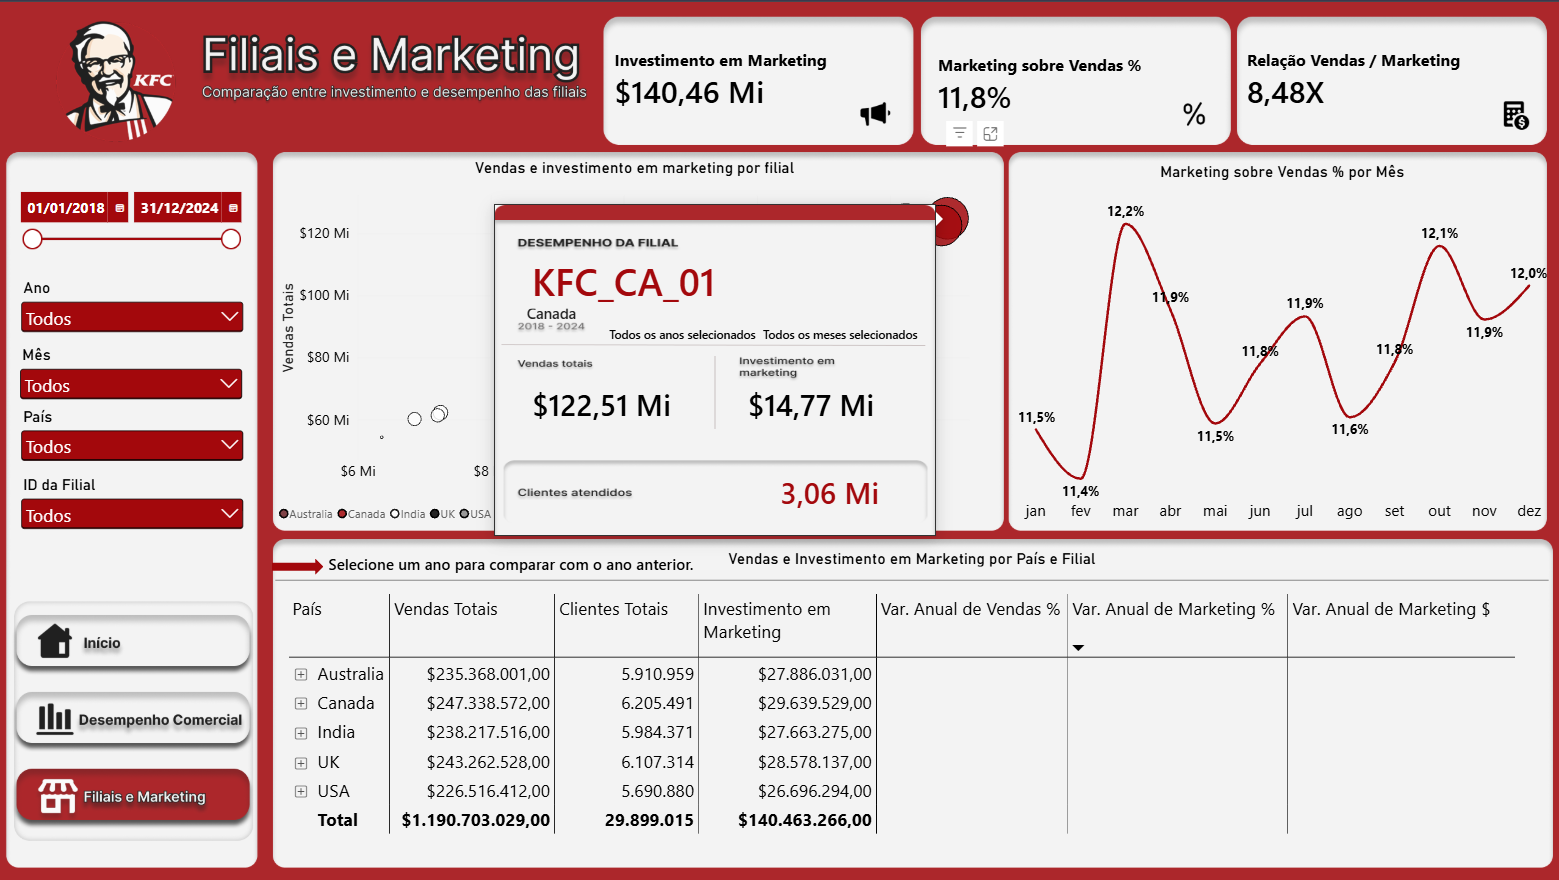

The page's visual inventory and layout, read from the dashboard file:
{"tool":"powerbi","page":{"name":"Filiais e Marketing","canvas":[1920,1080],"ordinal":2},"visuals":[{"type":"scatterChart","title":"Vendas e investimento em marketing por filial","fields":{"Category":["Conjunto de dados de vendas globais do KFC (2018–2024).ID da Filial"],"Series":["Conjunto de dados de vendas globais do KFC (2018–2024).País"],"Size":["Medidas.Clientes Totais"],"X":["Medidas.Investimento em Marketing"],"Y":["Medidas.Vendas Totais"]},"box":[330.2,178.3,907.4,480.7],"z":0},{"type":"pivotTable","title":"Vendas e Investimento em Marketing por País e Filial","fields":{"Rows":["Conjunto de dados de vendas globais do KFC (2018–2024).País","Conjunto de dados de vendas globais do KFC (2018–2024).ID da Filial"],"Values":["Medidas.Vendas Totais","Medidas.Clientes Totais","Medidas.Investimento em Marketing","Medidas.Variação Anual de Vendas % - Matriz","Medidas.Variação Anual de Marketing % - Matriz","Medidas.Variação Anual de Marketing"]},"box":[342.4,657.8,1564.3,422.2],"z":1000},{"type":"cardVisual","fields":{"Data":["Medidas.Marketing sobre Vendas %"]},"box":[1139.7,19,379.9,165.1],"z":2000},{"type":"cardVisual","fields":{"Data":["Medidas.Vendas por Unidade de Marketing"]},"box":[1519.6,19,375.5,154.9],"z":3000},{"type":"areaChart","title":"Marketing sobre Vendas % por Mês ","fields":{"Category":["dCalendario.Mês Abreviado"],"Y":["Medidas.Marketing sobre Vendas %"]},"box":[1237.6,184.1,682.4,474.9],"z":4000},{"type":"slicer","fields":{"Values":["Conjunto de dados de vendas globais do KFC (2018–2024).ID da Filial"]},"box":[24,581.1,283.5,85.2],"z":5000},{"type":"slicer","fields":{"Values":["Conjunto de dados de vendas globais do KFC (2018–2024).País"]},"box":[24,497.7,283.5,83.7],"z":6000},{"type":"slicer","fields":{"Values":["dCalendario.Ano"]},"box":[24,339.3,283.5,82.3],"z":7000},{"type":"slicer","fields":{"Values":["dCalendario.Data"]},"box":[20.6,227.7,283.5,104.3],"z":8000},{"type":"cardVisual","fields":{"Data":["Medidas.Investimento em Marketing"]},"box":[742.3,13.2,388.7,165.1],"z":9000},{"type":"image","box":[1451,116.9,39.5,42.4],"z":10000},{"type":"image","box":[1844,116.9,39.5,42.4],"z":11000},{"type":"image","box":[1059.4,116.9,39.5,42.4],"z":12000},{"type":"actionButton","box":[23.3,852.8,280.9,58.2],"z":13000},{"type":"actionButton","box":[23.3,758,280.9,56.5],"z":14000},{"type":"slicer","fields":{"Values":["dCalendario.Mês Abreviado"]},"box":[22.6,421.3,283.5,82.3],"z":15000},{"type":"shape","box":[337.5,683.2,63.2,19.9],"z":15003},{"type":"cardVisual","fields":{"Data":["Medidas.Aviso de Comparação Anual - Matriz"]},"box":[390.5,655.8,536,72.7],"z":15004}]}

Visuals, with their boxes in screenshot pixels (x1, y1, x2, y2), scaled from the page's 1920x1080 canvas onto the 1559x880 screenshot:
"Vendas e investimento em marketing por filial" scatterChart: 268 145 1005 537
"Vendas e Investimento em Marketing por País e Filial" pivotTable: 278 536 1548 879
cardVisual - Medidas.Marketing sobre Vendas %: 925 15 1234 150
cardVisual - Medidas.Vendas por Unidade de Marketing: 1234 15 1539 142
"Marketing sobre Vendas % por Mês " areaChart: 1005 150 1558 537
slicer - Conjunto de dados de vendas globais do KFC (2018–2024).ID da Filial: 19 473 250 543
slicer - Conjunto de dados de vendas globais do KFC (2018–2024).País: 19 406 250 474
slicer - dCalendario.Ano: 19 276 250 344
slicer - dCalendario.Data: 17 186 247 271
cardVisual - Medidas.Investimento em Marketing: 603 11 918 145
image: 1178 95 1210 130
image: 1497 95 1529 130
image: 860 95 892 130
actionButton: 19 695 247 742
actionButton: 19 618 247 664
slicer - dCalendario.Mês Abreviado: 18 343 249 410
shape: 274 557 325 573
cardVisual - Medidas.Aviso de Comparação Anual - Matriz: 317 534 752 594
